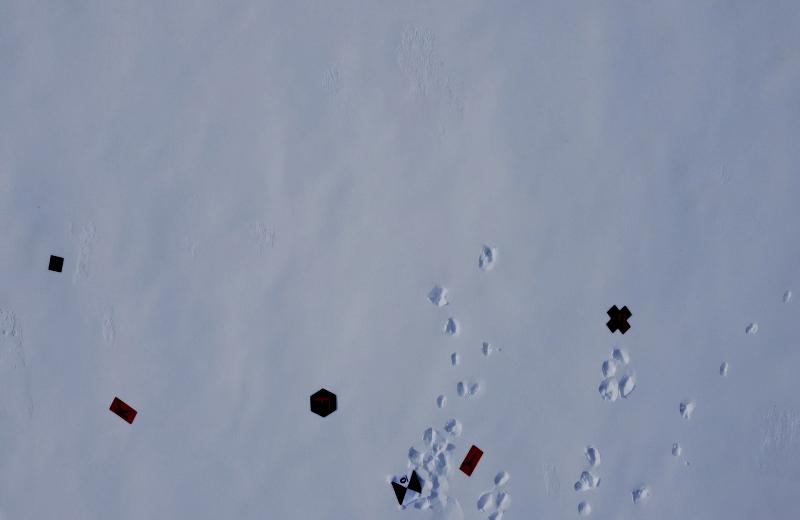Cross: (604, 302, 633, 339)
Hexagon: (306, 384, 339, 421)
Rectangle: (455, 439, 484, 478), (107, 395, 140, 428)
Square: (45, 251, 67, 276)
